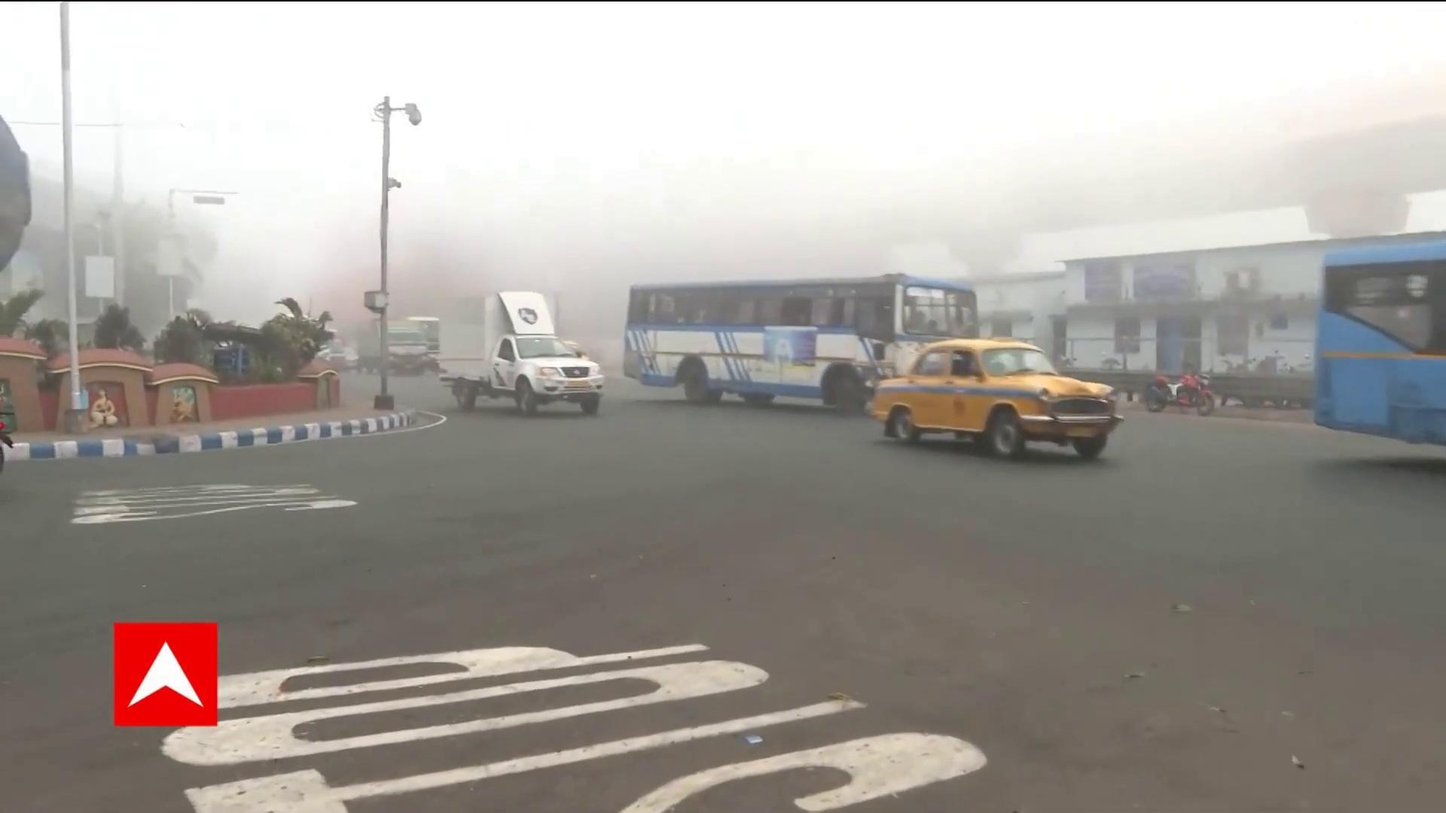Bus: (624, 275, 983, 419)
Car: (866, 340, 1124, 468)
Truck: (432, 289, 611, 422)
